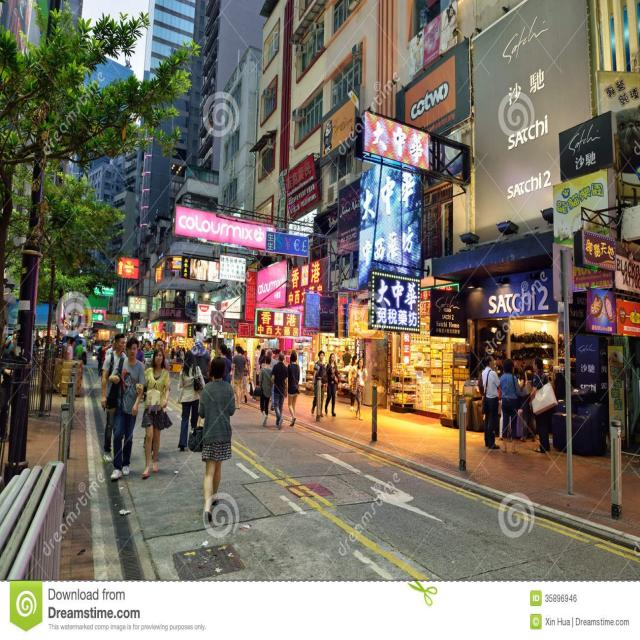body: (186, 354, 236, 525), (96, 331, 251, 376), (386, 0, 468, 80), (105, 336, 146, 483), (143, 251, 227, 320), (0, 304, 96, 361), (134, 347, 172, 478), (496, 352, 539, 438), (100, 334, 128, 464), (142, 336, 170, 459), (176, 350, 207, 453), (529, 355, 557, 455), (499, 358, 521, 454), (0, 332, 17, 445), (481, 356, 500, 452), (518, 363, 538, 442), (271, 352, 289, 430), (258, 354, 275, 430), (230, 344, 249, 410), (350, 358, 368, 422), (286, 351, 300, 429), (310, 349, 326, 417), (256, 345, 286, 379), (324, 352, 339, 417), (266, 349, 278, 412), (322, 118, 338, 156), (217, 343, 232, 383), (348, 355, 358, 412), (490, 353, 504, 378), (512, 353, 524, 381), (192, 322, 205, 347), (331, 344, 344, 368), (242, 350, 252, 378), (341, 346, 353, 368), (142, 340, 155, 359), (66, 338, 76, 360), (257, 348, 267, 369), (74, 340, 84, 359)
